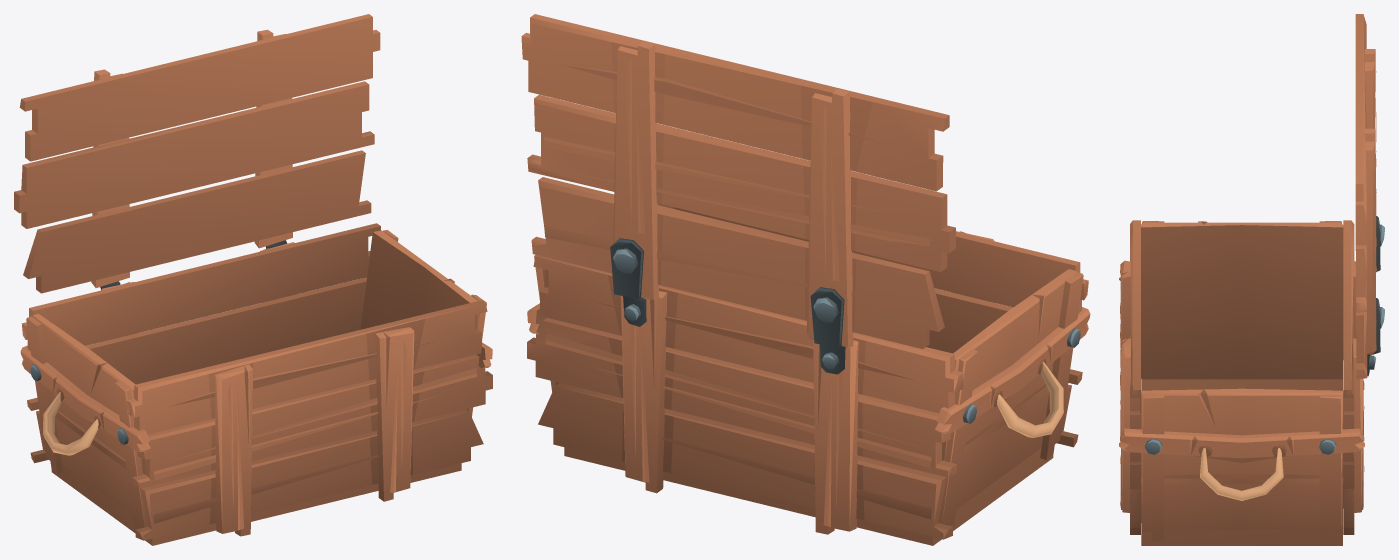
Rendered from woodenbox_001.glb.
3 renders of one model, left to right at view 1: azimuth 30°, elevation 25°; view 2: azimuth 150°, elevation 25°; view 3: azimuth 270°, elevation 25°, orthographic. The views are drawn at different scales.
Visible parts, largest first — view 1: woodenbox.001, Cube.072; view 2: woodenbox.001, Cube.072; view 3: woodenbox.001, Cube.072.
Boxes of the visible parts, x1,y1,x2,y2 form: woodenbox.001: (20, 223, 492, 545); Cube.072: (14, 14, 380, 293); woodenbox.001: (527, 203, 1090, 545); Cube.072: (521, 14, 955, 348); woodenbox.001: (1119, 220, 1375, 545); Cube.072: (1355, 14, 1384, 379).
Bounding box in the file's own units: 2.28 × 2 × 1.28.
Materials: 1 (1 with a texture image).
